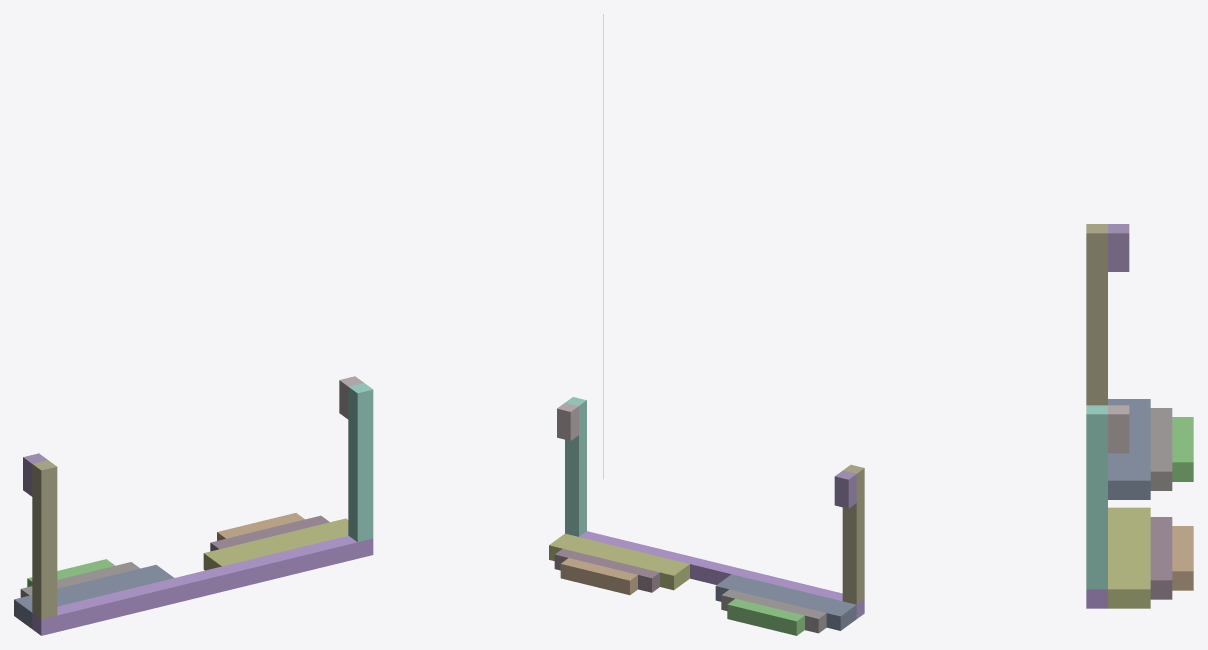
The model's file is iron_helmet.obj.
3 renders of one model, left to right at view 1: azimuth 30°, elevation 25°; view 2: azimuth 150°, elevation 25°; view 3: azimuth 270°, elevation 25°, orthographic. The views are drawn at different scales.
Visible parts, largest first — view 1: Element #3, Element #5, Element #12, Element #4, Element #9, Element #7, Element #10, Element #8; view 2: Element #3, Element #12, Element #9, Element #4, Element #5, Element #8, Element #11, Element #7, Element #10, Element #13, Element #6; view 3: Element #4, Element #5, Element #12, Element #9, Element #7, Element #10, Element #8, Element #11, Element #6, Element #13, Element #3.
Part boxes in pixels (box(x1,y1,x2,y2)): Element #3: box(32, 535, 373, 635); Element #5: box(348, 383, 373, 542); Element #12: box(32, 460, 57, 619); Element #4: box(203, 518, 348, 570); Element #9: box(14, 565, 173, 628); Element #7: box(210, 515, 329, 551); Element #10: box(20, 562, 139, 597); Element #8: box(217, 513, 304, 540); Element #3: box(579, 531, 864, 618); Element #12: box(842, 464, 864, 604); Element #9: box(715, 574, 856, 630); Element #4: box(549, 533, 689, 590); Element #5: box(565, 397, 586, 536); Element #8: box(560, 558, 637, 595); Element #11: box(727, 598, 804, 635); Element #7: box(554, 549, 659, 592); Element #10: box(721, 589, 826, 633); Element #13: box(834, 470, 856, 508); Element #6: box(557, 403, 578, 440); Element #4: box(1108, 507, 1150, 608); Element #5: box(1086, 405, 1107, 589); Element #12: box(1086, 224, 1107, 405); Element #9: box(1108, 399, 1150, 499); Element #7: box(1150, 517, 1172, 599); Element #10: box(1150, 408, 1172, 490); Element #8: box(1172, 526, 1193, 590); Element #11: box(1172, 417, 1193, 481); Element #6: box(1108, 405, 1129, 453); Element #13: box(1108, 224, 1129, 271); Element #3: box(1086, 589, 1107, 608).
Size of the model in its own units: 12 by 16 by 7.
